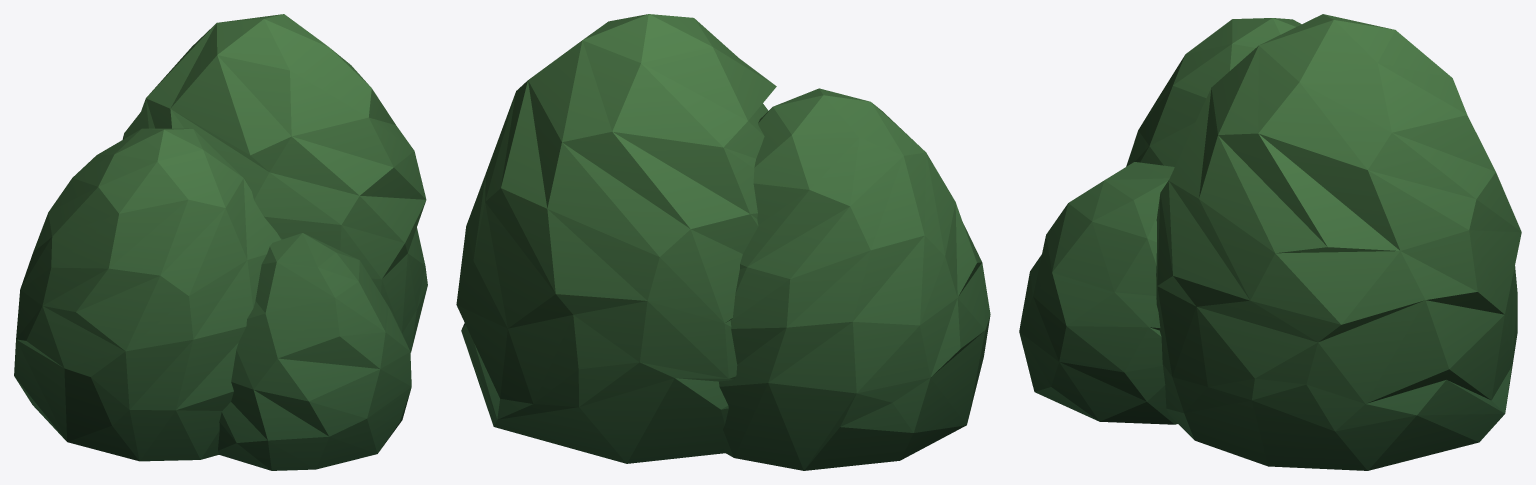
The model's file is lp_bush_01.glb.
The picture shows the model from 3 angles, left to right: view 1: azimuth 30°, elevation 25°; view 2: azimuth 150°, elevation 25°; view 3: azimuth 270°, elevation 25°; orthographic projection. The views are drawn at different scales.
Visible parts, largest first — view 1: bush_01; view 2: bush_01; view 3: bush_01.
Part boxes in pixels (x1,y1,x2,y2): bush_01: (14,14,427,470); bush_01: (456,14,990,470); bush_01: (1019,14,1521,470).
Size of the model in its own units: 2.53 by 2.01 by 2.39.
